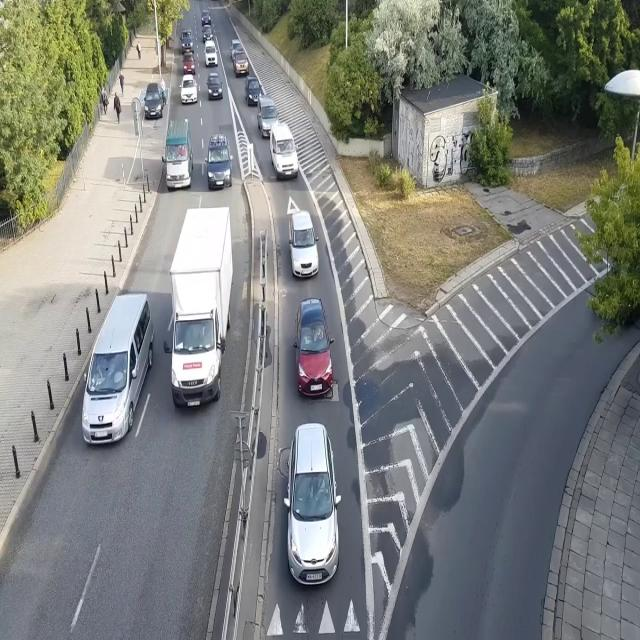car: (284, 422, 343, 587), (293, 297, 335, 395), (288, 211, 319, 277), (143, 82, 163, 120), (179, 75, 198, 104), (245, 76, 262, 106), (206, 72, 223, 100), (232, 51, 250, 76), (204, 40, 218, 67), (182, 52, 196, 75), (230, 39, 244, 58), (202, 25, 214, 41), (201, 9, 213, 25)
truck: (163, 208, 234, 408)
van: (81, 292, 155, 446), (161, 118, 193, 191), (270, 122, 300, 180), (205, 133, 233, 191), (258, 96, 280, 138), (180, 28, 194, 52)
